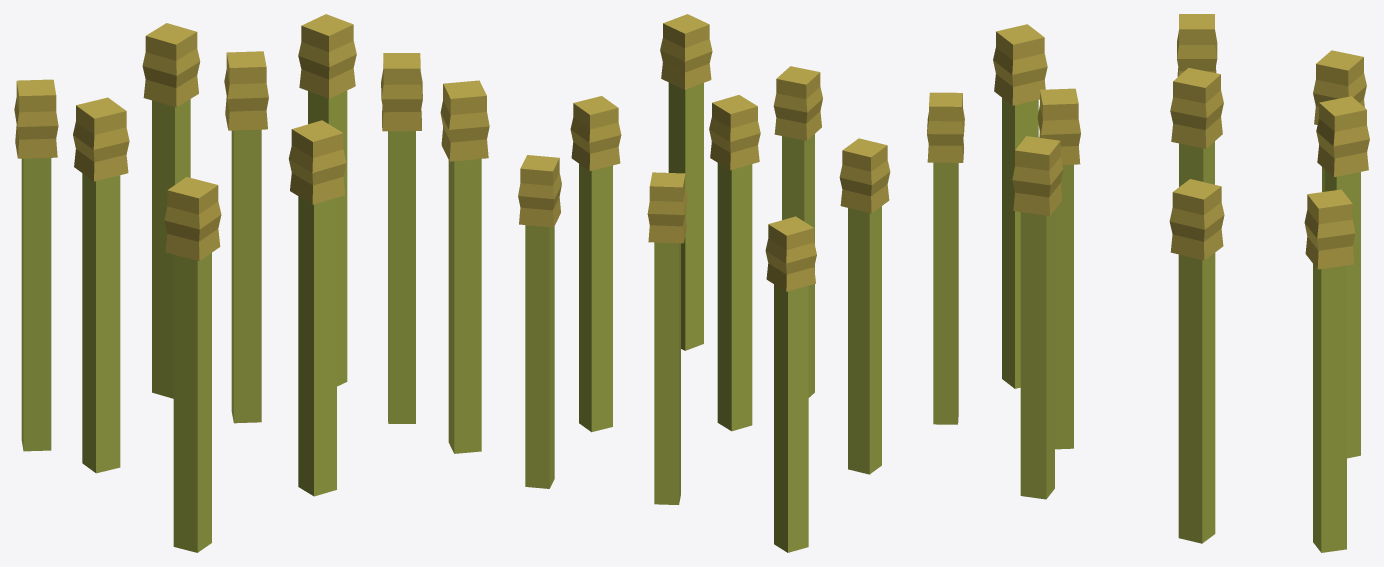
The model's file is wheat_stage_3.glb.
3 views of the same model, side by side, from view 1: azimuth 30°, elevation 25°; view 2: azimuth 150°, elevation 25°; view 3: azimuth 270°, elevation 25° (orthographic). The views are drawn at different scales.
Parts seen in each view (by area): view 1: wheat.010, wheat.013, wheat.012, wheat.016, wheat.009, wheat.014, wheat.017, wheat.011, wheat.015; view 2: wheat.009, wheat.014, wheat.017, wheat.012, wheat.015, wheat.016, wheat.011, wheat.013, wheat.010; view 3: wheat.017, wheat.016, wheat.015, wheat.013, wheat.010, wheat.011, wheat.009, wheat.014, wheat.012.
Part boxes in pixels (x1,y1,x2,y2): wheat.010: [288, 120, 346, 496]; wheat.013: [164, 177, 221, 552]; wheat.012: [73, 97, 129, 473]; wheat.016: [440, 80, 489, 453]; wheat.009: [224, 51, 268, 423]; wheat.014: [14, 79, 58, 451]; wheat.017: [381, 53, 422, 423]; wheat.011: [142, 23, 200, 398]; wheat.015: [298, 14, 356, 386]; wheat.009: [709, 95, 760, 431]; wheat.014: [765, 216, 816, 552]; wheat.017: [570, 96, 621, 432]; wheat.012: [839, 138, 890, 474]; wheat.015: [518, 155, 561, 488]; wheat.016: [660, 14, 712, 350]; wheat.011: [647, 172, 687, 504]; wheat.013: [927, 92, 964, 424]; wheat.010: [773, 66, 822, 397]; wheat.017: [1169, 179, 1224, 543]; wheat.016: [1012, 136, 1063, 499]; wheat.015: [1304, 189, 1355, 552]; wheat.013: [993, 24, 1047, 388]; wheat.010: [1037, 88, 1080, 449]; wheat.011: [1316, 96, 1369, 458]; wheat.009: [1170, 67, 1223, 186]; wheat.014: [1313, 50, 1366, 191]; wheat.012: [1177, 14, 1217, 76].
Size of the model in its own units: 0.8691 by 0.9736 by 0.8375.
